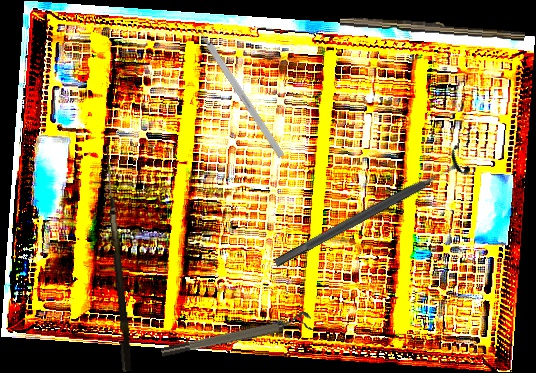Fixation Ring: (267, 143, 473, 279), (158, 310, 314, 359)
Hook Surgical: (189, 16, 285, 159), (95, 147, 136, 372)
Scalpel Handle: (339, 13, 526, 42)
